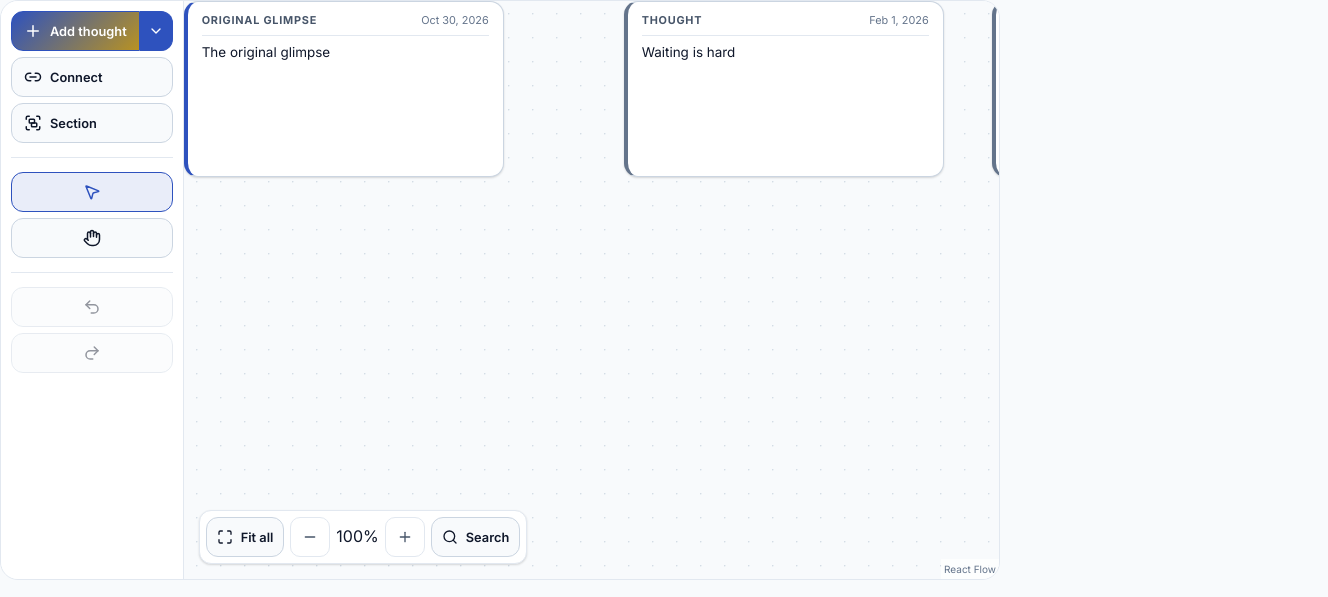
Scenario: adding thoughts › adds at the double-clicked spot on empty space
This screenshot has width=1328, height=597.
Double-click the element with class "react-flow__pane" at (748, 89), box [184,1,1312,177]
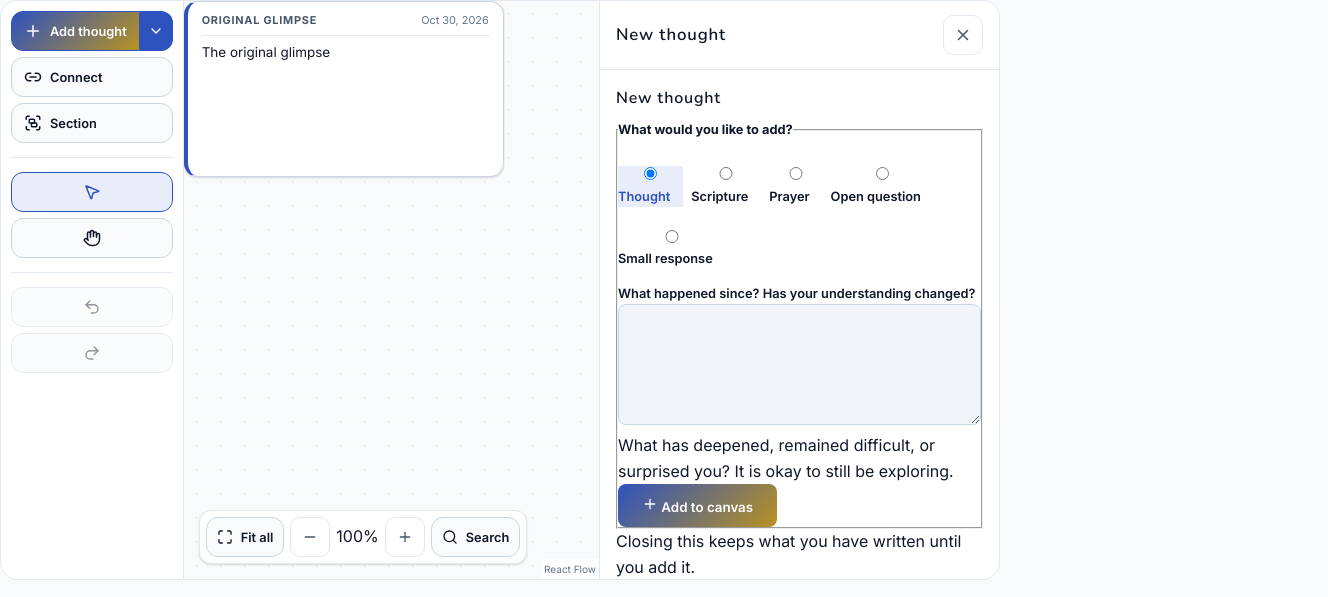
Check: the element "New thought" is shown, box [599,1,999,579]
